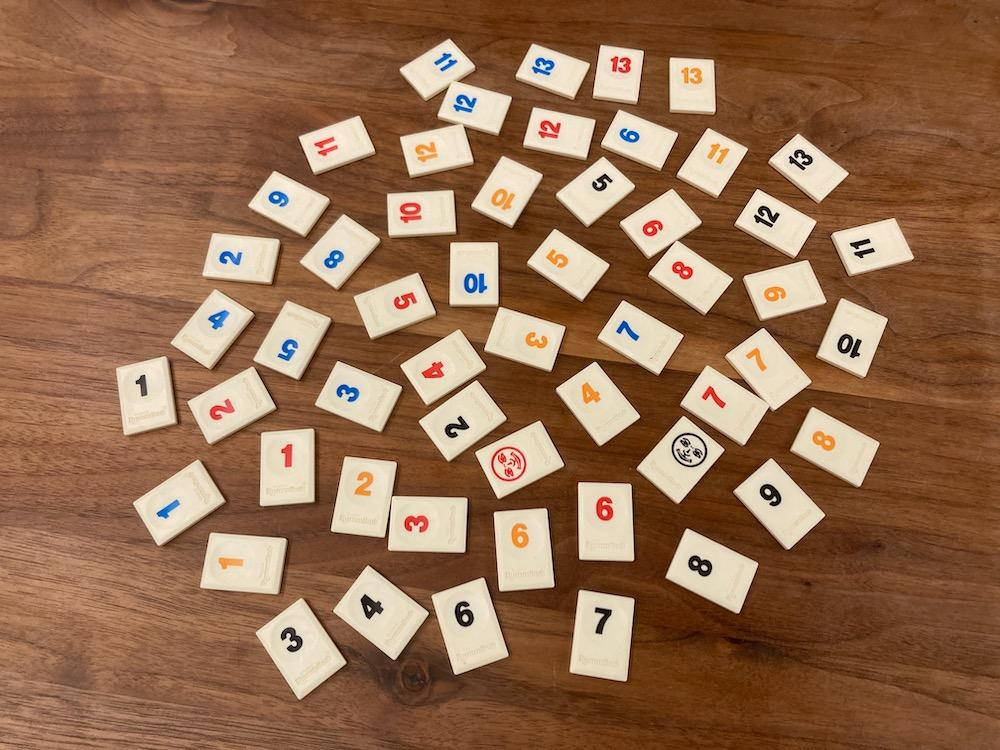black_1: (117, 357, 178, 436)
black_10: (818, 299, 887, 377)
black_11: (832, 219, 914, 275)
black_12: (734, 189, 816, 258)
black_13: (770, 135, 848, 203)
black_2: (420, 381, 506, 461)
black_3: (256, 598, 346, 699)
black_4: (334, 566, 428, 660)
black_5: (557, 158, 635, 227)
black_6: (432, 578, 508, 674)
black_7: (570, 590, 635, 682)
black_8: (666, 529, 758, 613)
black_9: (735, 459, 824, 549)
blue_1: (135, 461, 225, 545)
blue_10: (449, 243, 498, 307)
blue_11: (400, 39, 475, 100)
blue_12: (438, 82, 512, 135)
blue_13: (517, 45, 590, 100)
blue_2: (204, 232, 279, 283)
blue_3: (318, 361, 402, 432)
blue_4: (172, 289, 254, 369)
blue_5: (254, 301, 330, 379)
blue_6: (602, 109, 678, 170)
blue_7: (598, 301, 684, 375)
blue_8: (301, 215, 381, 289)
blue_9: (248, 172, 330, 236)
joker: (637, 416, 725, 504), (477, 422, 564, 498)
orange_1: (202, 533, 287, 593)
orange_10: (471, 156, 543, 227)
orange_11: (678, 129, 748, 197)
orange_12: (401, 125, 473, 178)
orange_13: (670, 57, 717, 115)
orange_2: (332, 457, 396, 537)
orange_3: (484, 307, 564, 371)
orange_4: (557, 361, 639, 445)
orange_5: (527, 229, 609, 301)
orange_6: (495, 509, 554, 592)
orange_7: (725, 328, 811, 410)
orange_8: (791, 408, 879, 486)
orange_9: (745, 260, 826, 320)
red_1: (260, 428, 314, 505)
red_10: (387, 189, 455, 238)
red_11: (299, 115, 375, 174)
red_12: (524, 107, 595, 160)
red_13: (592, 45, 645, 104)
red_2: (188, 367, 275, 443)
red_3: (390, 498, 466, 552)
red_4: (400, 330, 486, 404)
red_5: (354, 273, 436, 338)
red_6: (578, 482, 635, 561)
red_7: (680, 365, 768, 445)
red_8: (650, 242, 732, 314)
red_9: (619, 189, 701, 258)
